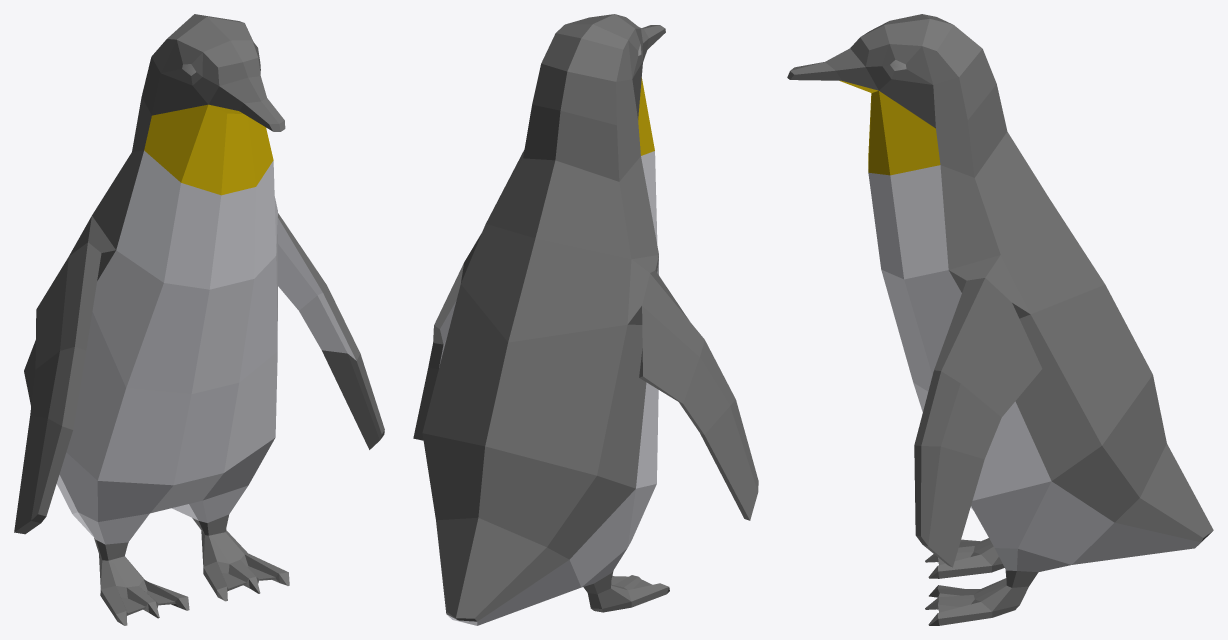
The model's file is penguin.glb.
3 views of the same model, side by side, from view 1: azimuth 30°, elevation 25°; view 2: azimuth 150°, elevation 25°; view 3: azimuth 270°, elevation 25° (orthographic). The views are drawn at different scales.
Parts seen in each view (by area): view 1: penguin; view 2: penguin; view 3: penguin.
Boxes of the visible parts, x1,y1,x2,y2 form: penguin: [14, 14, 384, 625]; penguin: [413, 14, 758, 625]; penguin: [787, 14, 1213, 625].
Bounding box in the file's own units: 0.695 × 1.08 × 0.7358.
